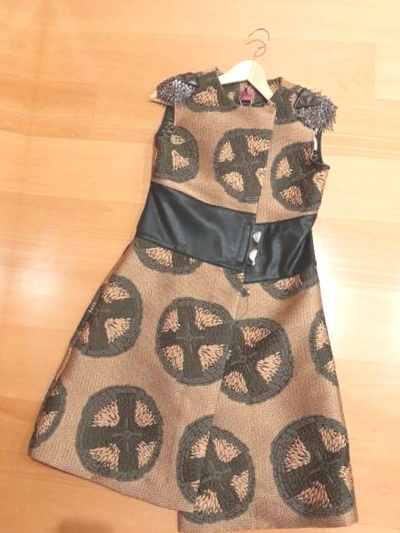Dress: (6, 24, 400, 533), (0, 0, 17, 496), (387, 76, 400, 533)
